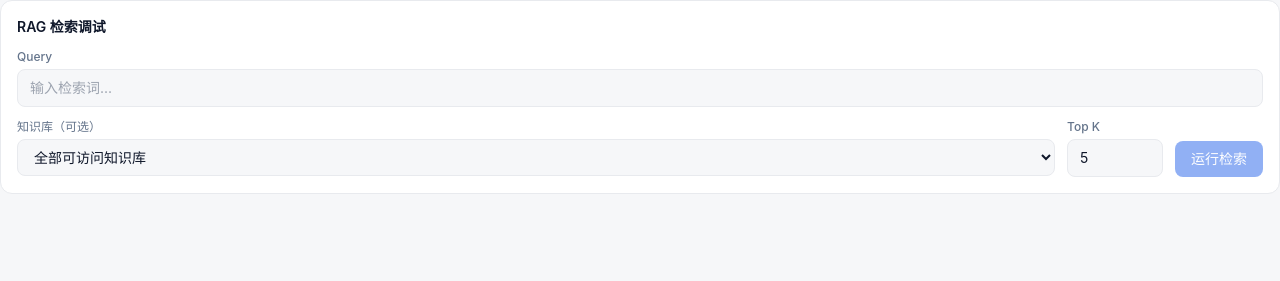
Test: RAGDebugPanel › 403 显示无权限
The width and height of the screenshot is (1280, 281).
Type "test" into the field with placeholder "输入检索词..." at coordinates (640, 88), box [17,69,1263,107]
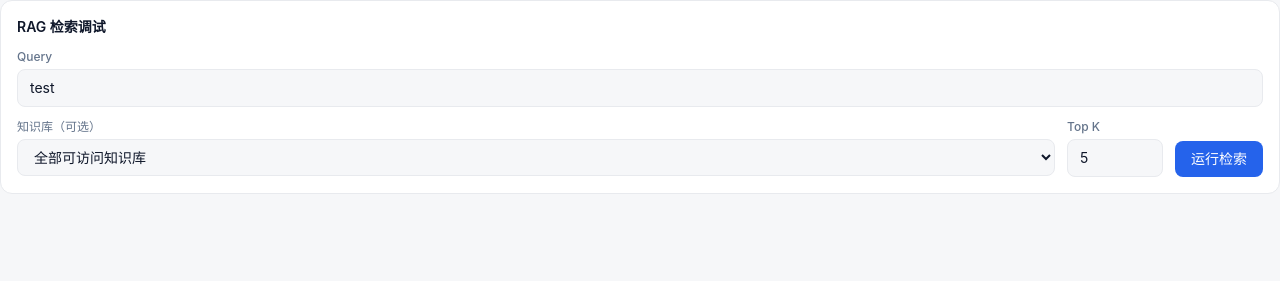
Click the button "运行检索" at coordinates (1219, 159), box [1175,141,1263,177]
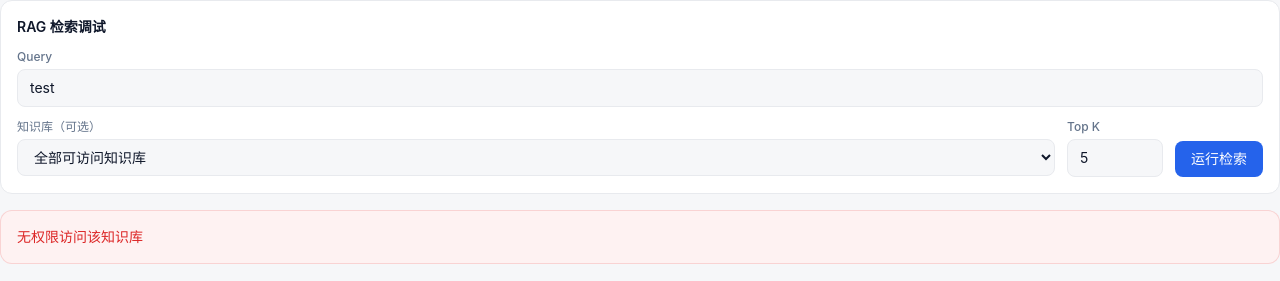
expect the text "无权限访问该知识库" is shown: met, box [0,210,1279,264]
